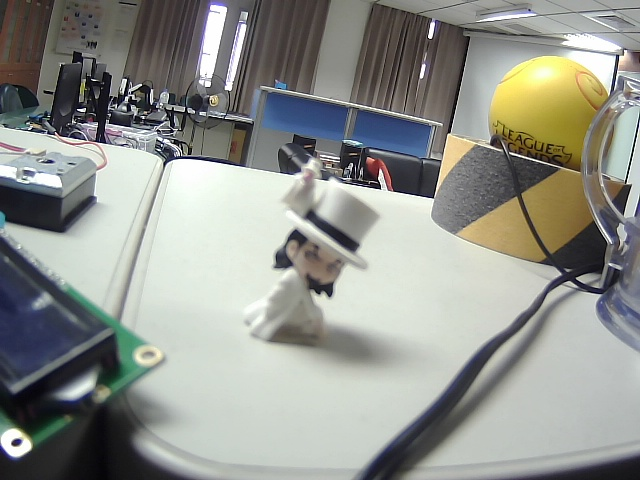lucci: (242, 154, 389, 361)
